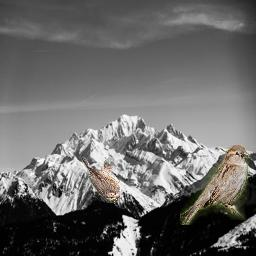Sparrow: (181, 145, 250, 225), (82, 157, 121, 204)
